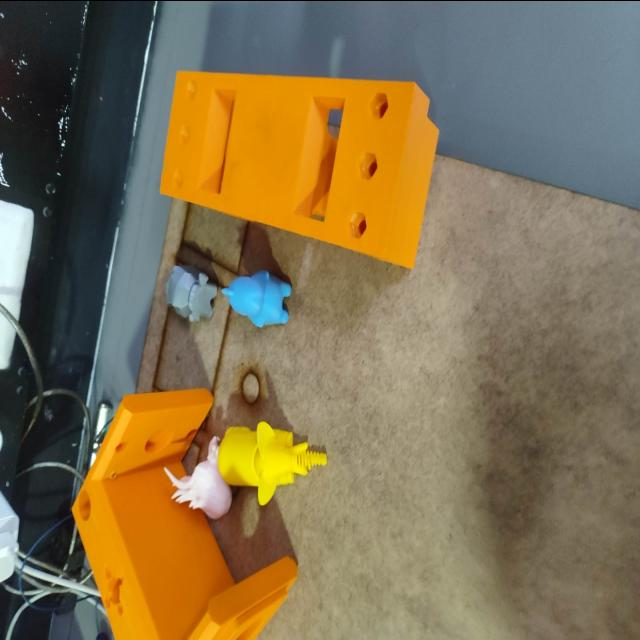DINO: (219, 258, 297, 338)
